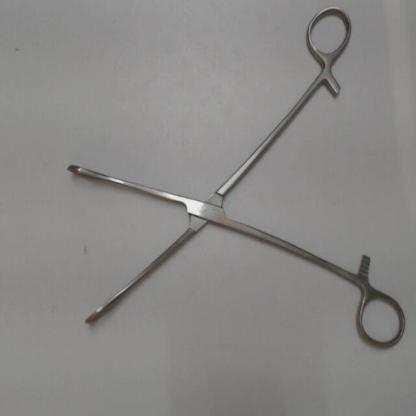Sponge Forceps: (63, 2, 410, 356)
